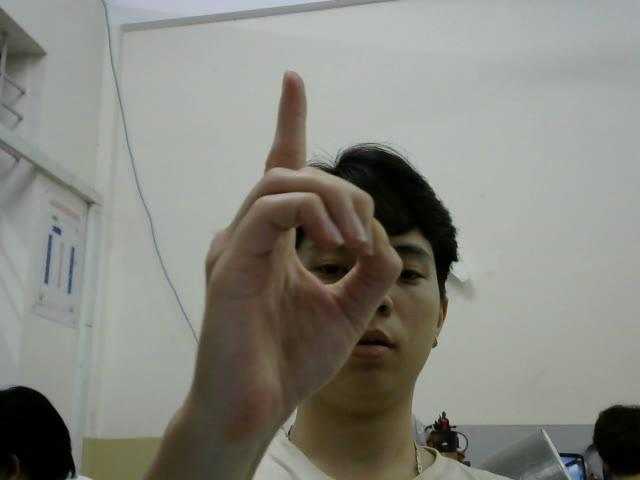D: (195, 66, 403, 422)
